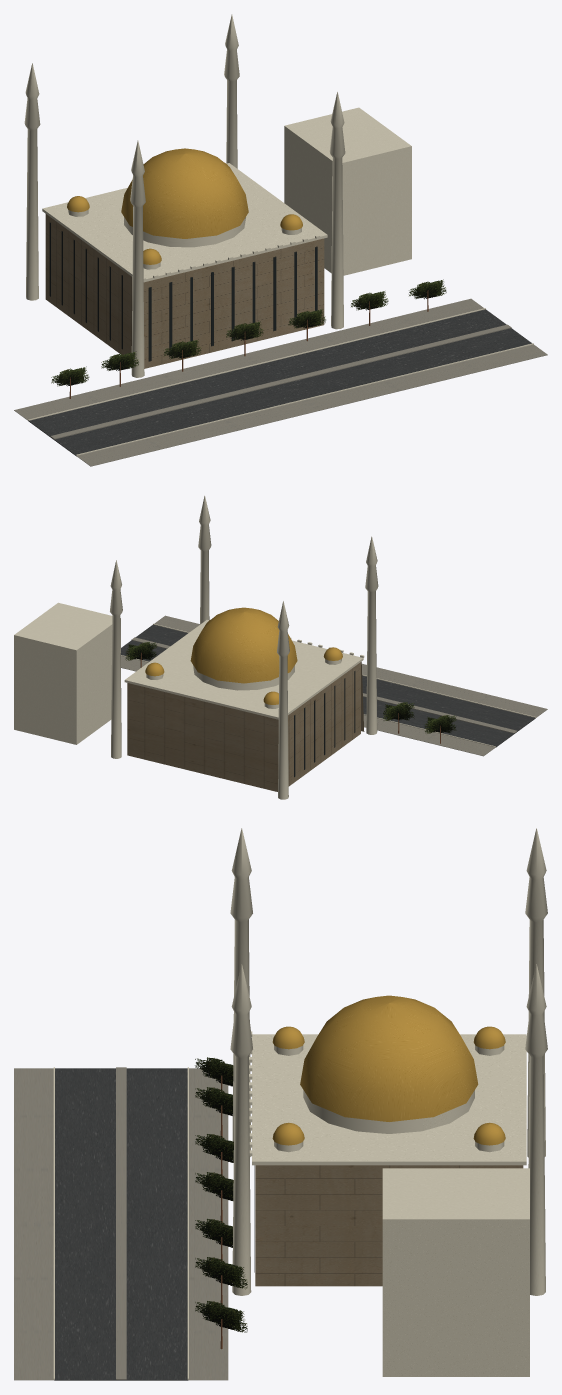
File: far.glb
The picture shows the model from 3 angles, top to bottom: view 1: azimuth 30°, elevation 25°; view 2: azimuth 150°, elevation 25°; view 3: azimuth 270°, elevation 25°; orthographic projection. The views are drawn at different scales.
Parts seen in each view (by area): view 1: Abuja mineral atlas, Gold panel metal, Baked broadleaf alpha cards, Recessed glazing; view 2: Abuja mineral atlas, Gold panel metal, Baked broadleaf alpha cards, Recessed glazing; view 3: Abuja mineral atlas, Gold panel metal, Baked broadleaf alpha cards.
Part boxes in pixels (left/top/right/bottom): Abuja mineral atlas: left=14, top=14, right=547, bottom=466; Gold panel metal: left=67, top=148, right=302, bottom=264; Baked broadleaf alpha cards: left=51, top=279, right=446, bottom=386; Recessed glazing: left=49, top=222, right=122, bottom=349; Abuja mineral atlas: left=14, top=495, right=547, bottom=799; Gold panel metal: left=145, top=607, right=342, bottom=704; Baked broadleaf alpha cards: left=125, top=642, right=456, bottom=733; Recessed glazing: left=294, top=671, right=355, bottom=777; Abuja mineral atlas: left=14, top=828, right=547, bottom=1380; Gold panel metal: left=272, top=995, right=505, bottom=1145; Baked broadleaf alpha cards: left=195, top=1057, right=247, bottom=1332.
Size of the model in its own units: 110 by 55.1 by 79.7.
4 materials, 4 textured.
